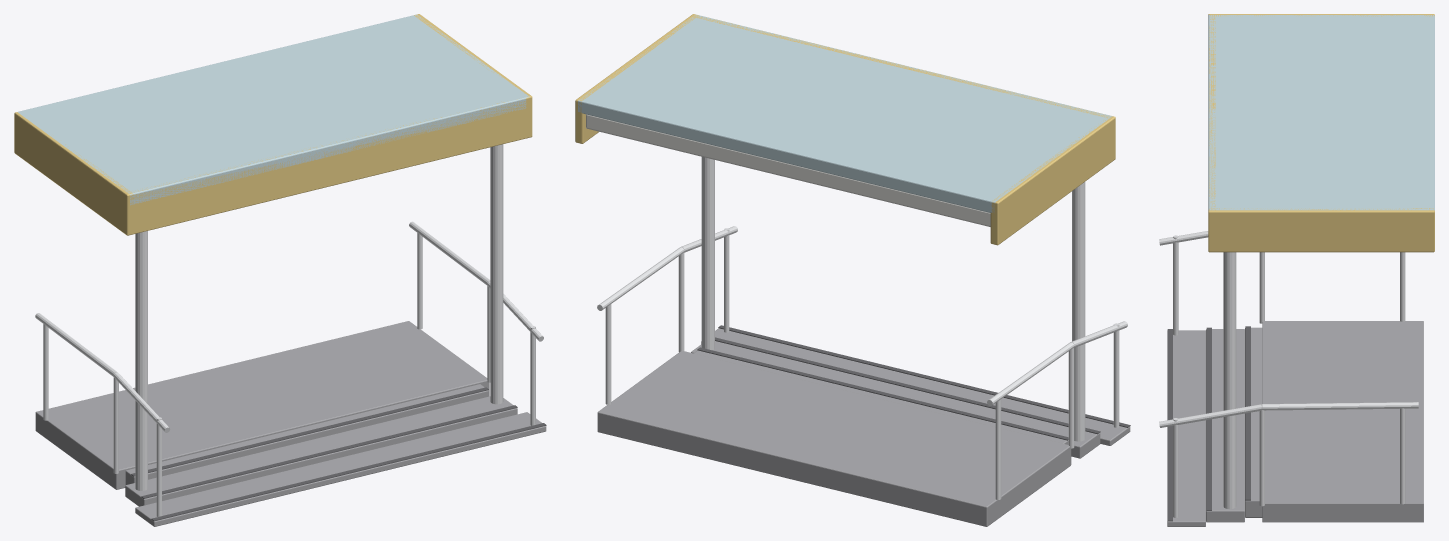
File: entrance.glb
3 renders of one model, left to right at view 1: azimuth 30°, elevation 25°; view 2: azimuth 150°, elevation 25°; view 3: azimuth 270°, elevation 25°, orthographic. The views are drawn at different scales.
Visible parts, largest first — view 1: Cube.005, Cube.001, Cube.002, Cylinder, Cube.006; view 2: Cube.001, Cube.005, Cylinder, Cube.002, Cube, Cube.006; view 3: Cube.001, Cube.005, Cube.002, Cylinder, Cube.006.
Boxes of the visible parts, bbox=[...] form: Cube.005: bbox=[35, 321, 546, 526]; Cube.001: bbox=[18, 14, 529, 205]; Cube.002: bbox=[14, 14, 532, 235]; Cylinder: bbox=[35, 144, 543, 516]; Cube.006: bbox=[131, 387, 546, 521]; Cube.001: bbox=[578, 14, 1112, 212]; Cube.005: bbox=[597, 328, 1130, 526]; Cylinder: bbox=[597, 157, 1127, 499]; Cube.002: bbox=[575, 14, 1115, 245]; Cube: bbox=[586, 114, 990, 226]; Cube.006: bbox=[697, 325, 1130, 440]; Cube.001: bbox=[1208, 15, 1434, 210]; Cube.005: bbox=[1167, 321, 1423, 526]; Cube.002: bbox=[1208, 14, 1434, 252]; Cylinder: bbox=[1159, 231, 1418, 517]; Cube.006: bbox=[1167, 326, 1250, 521].
Bounding box in the file's own units: 4.34 × 3.26 × 2.56.
